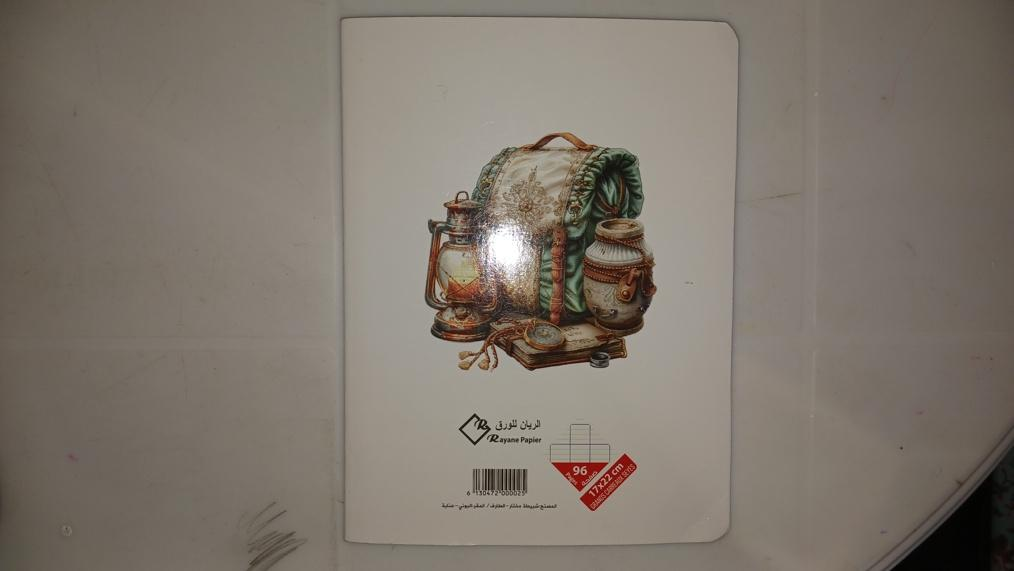notebook: (342, 19, 743, 540)
